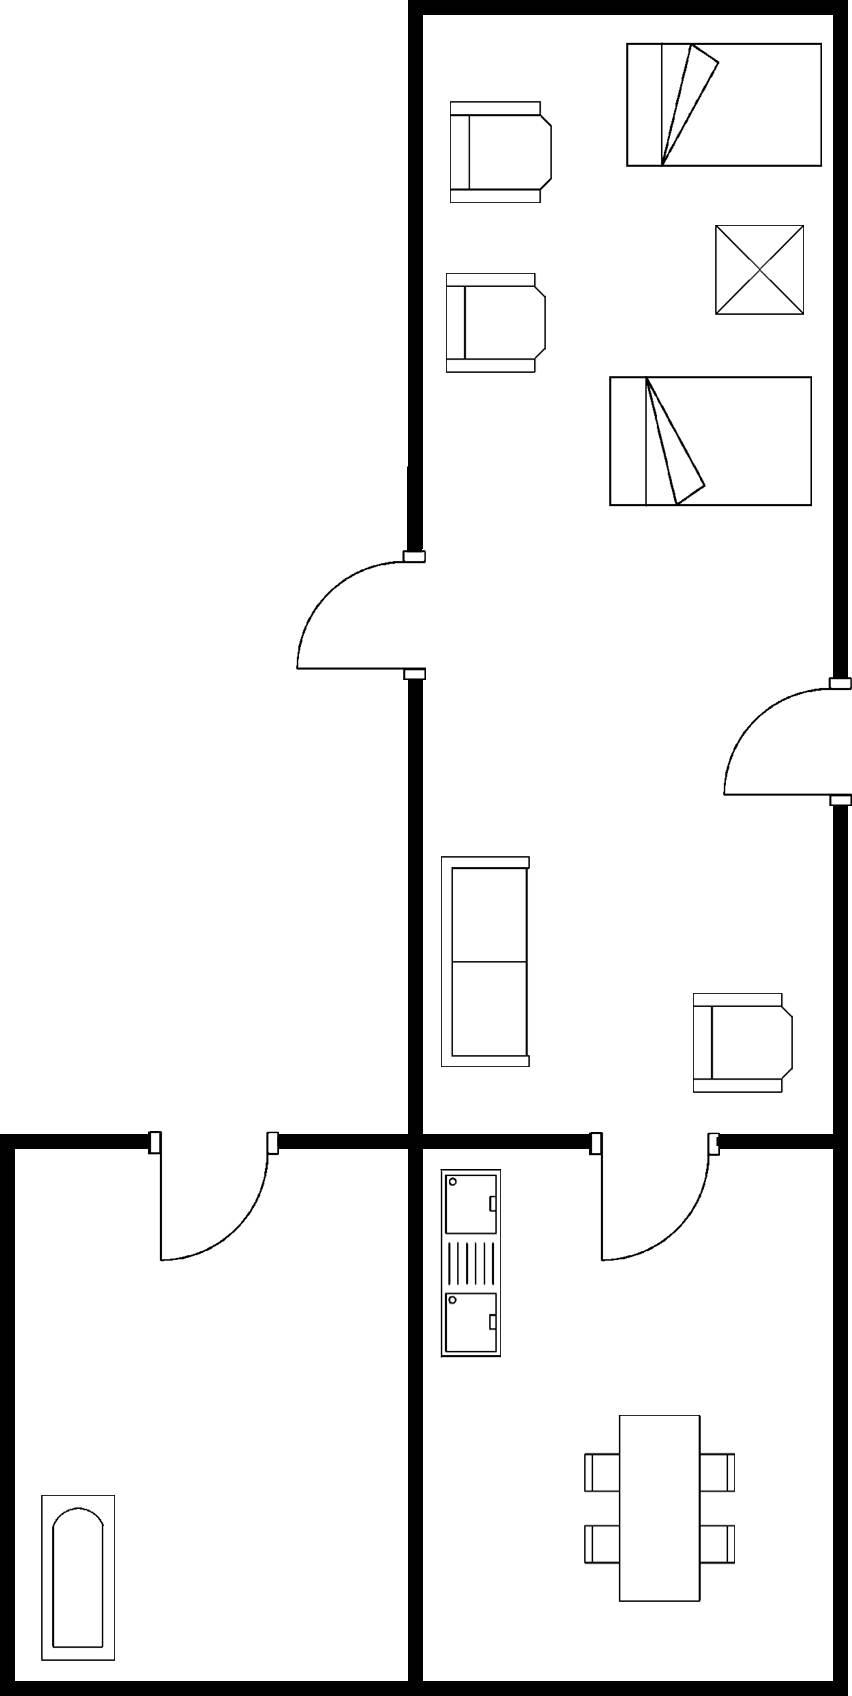sink: (433, 1160, 510, 1367)
